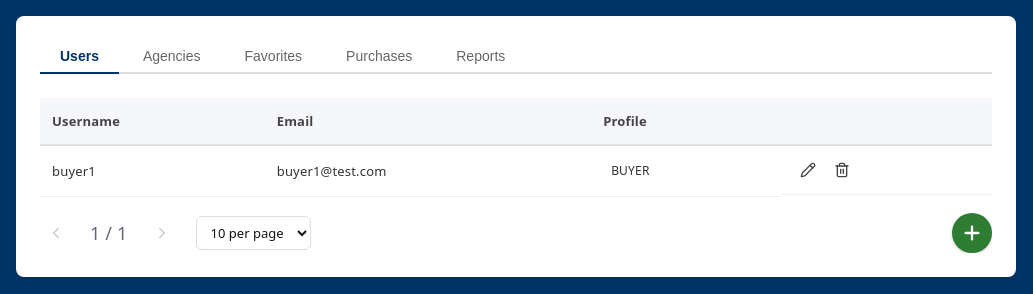
Test: AdminPage › shows an empty state for a tab with no data
The width and height of the screenshot is (1033, 294).
Click the button with test id "tab-favorites" at (273, 57), box [224,40,322,74]
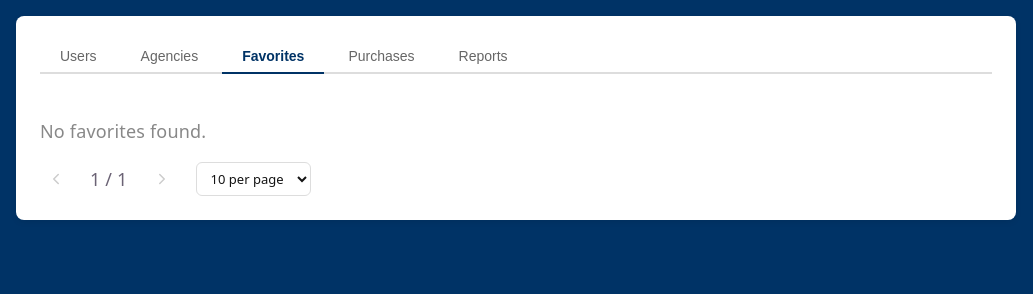
Now the text "No favorites found." is shown, box [40,119,206,143]
